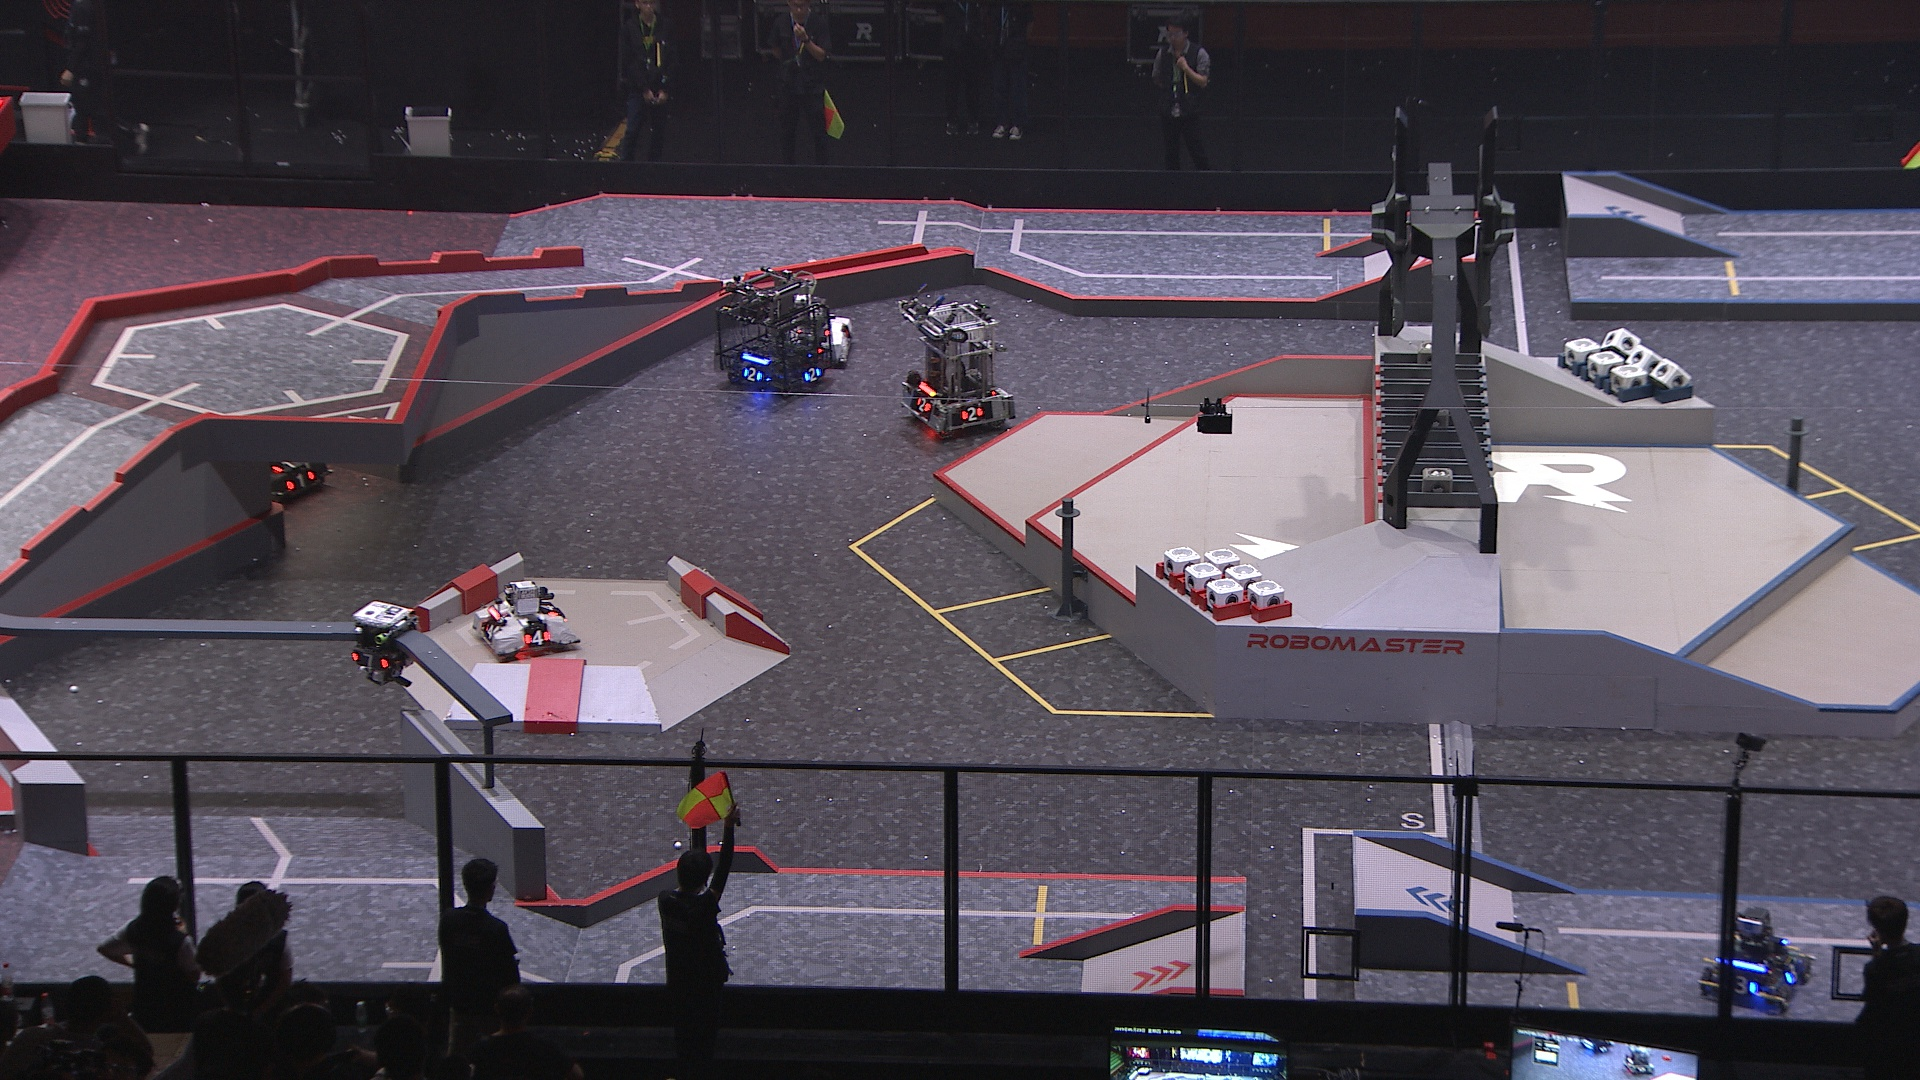armor: (348, 647, 392, 673), (269, 448, 306, 476), (284, 469, 316, 493), (1733, 971, 1760, 997), (524, 626, 553, 650), (533, 595, 560, 618), (911, 392, 936, 417), (802, 363, 827, 385), (957, 404, 984, 425), (740, 365, 765, 385), (1783, 963, 1804, 984), (480, 617, 500, 640)
car: (894, 301, 1021, 440), (713, 268, 835, 400), (216, 392, 332, 508), (1697, 906, 1815, 1011), (469, 576, 580, 665), (778, 291, 855, 368)
watcher: (345, 597, 418, 690)
